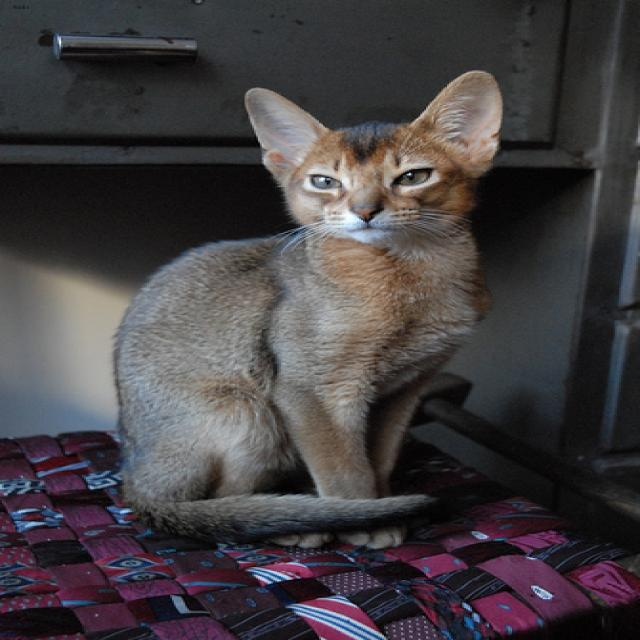Abyssinian: (241, 80, 502, 243)
